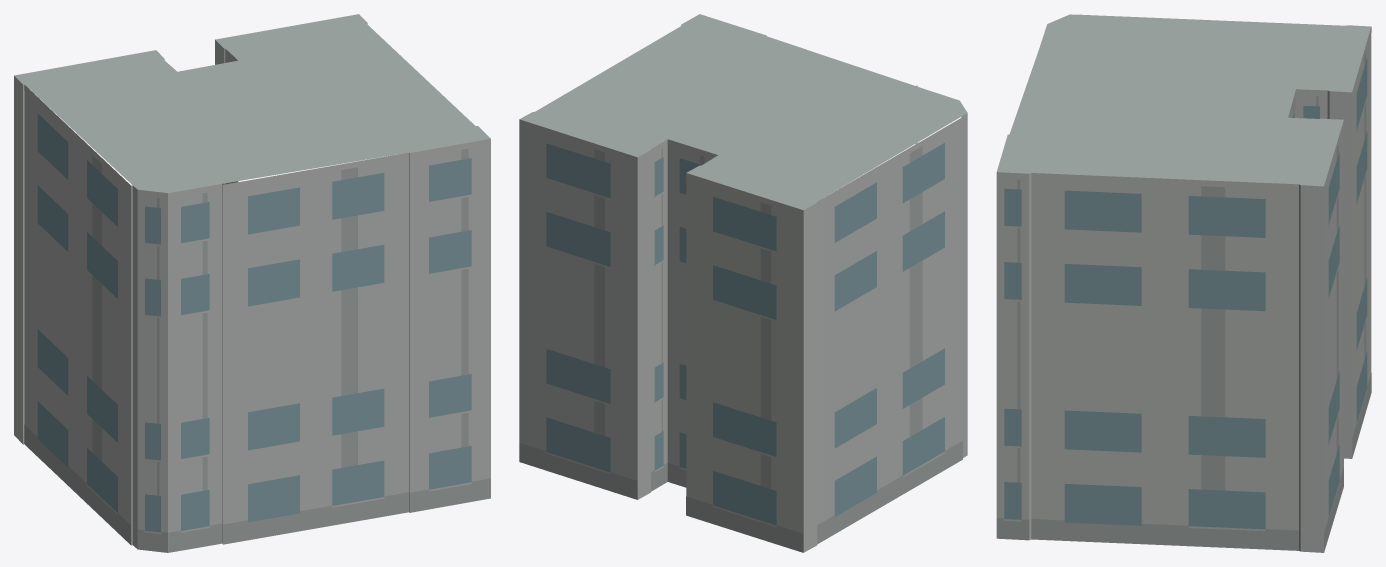
The model's file is survey-upis-32680879.glb.
The picture shows the model from 3 angles, left to right: view 1: azimuth 30°, elevation 25°; view 2: azimuth 150°, elevation 25°; view 3: azimuth 270°, elevation 25°; orthographic projection. The views are drawn at different scales.
Parts seen in each view (by area): view 1: survey-upis-32680879.tmp; view 2: survey-upis-32680879.tmp; view 3: survey-upis-32680879.tmp.
Boxes of the visible parts, <box> form: survey-upis-32680879.tmp: <box>14,14,490,552</box>; survey-upis-32680879.tmp: <box>519,14,967,552</box>; survey-upis-32680879.tmp: <box>996,14,1371,552</box>.
Bounding box in the file's own units: 14.73 × 14.6 × 13.54.
